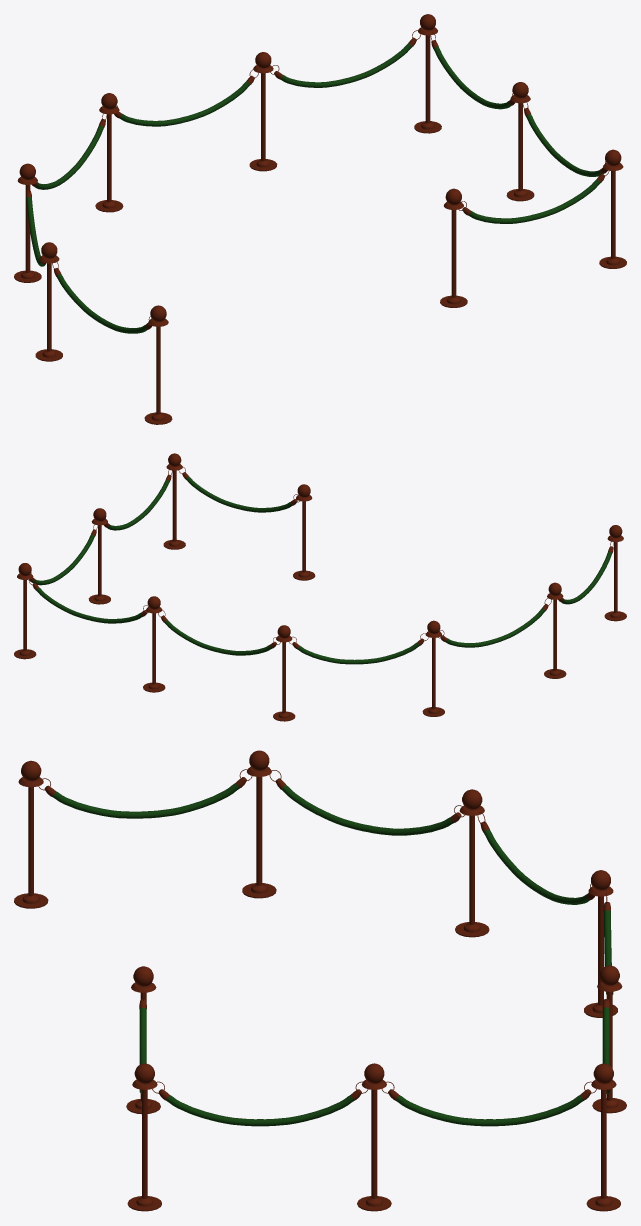
Rendered from suport-franghie-separare-oameni.fbx.
The picture shows the model from 3 angles, top to bottom: view 1: azimuth 30°, elevation 25°; view 2: azimuth 150°, elevation 25°; view 3: azimuth 270°, elevation 25°; orthographic projection. The views are drawn at different scales.
Parts seen in each view (by area): view 1: Cylinder.076, Cylinder.086, Cylinder.085, Cylinder.070, Cylinder.075, Cylinder.078, Cylinder.084, Cylinder.071, Cylinder.077, Cylinder.082, Cylinder.073, Cylinder.080 (+4 smaller); view 2: Cylinder.083, Cylinder.076, Cylinder.085, Cylinder.086, Cylinder.081, Cylinder.073, Cylinder.075, Cylinder.071, Cylinder.082, Cylinder.084, Cylinder.078, Cylinder.077 (+5 smaller); view 3: Cylinder.072, Cylinder.074, Cylinder.079, Cylinder.081, Cylinder.077, Cylinder.071, Cylinder.078, Cylinder.070, Cylinder.073, Cylinder.080, Cylinder.083, Cylinder.082 (+1 smaller).
Boxes of the visible parts, x1,y1,x2,y2 form: Cylinder.076: [462, 173, 605, 223]; Cylinder.086: [274, 37, 416, 87]; Cylinder.085: [114, 75, 254, 126]; Cylinder.070: [414, 27, 441, 133]; Cylinder.075: [440, 202, 467, 307]; Cylinder.078: [144, 318, 172, 424]; Cylinder.084: [249, 65, 277, 171]; Cylinder.071: [506, 95, 534, 201]; Cylinder.077: [35, 255, 62, 361]; Cylinder.082: [95, 106, 123, 212]; Cylinder.073: [599, 163, 626, 268]; Cylinder.080: [14, 176, 41, 282]; Cylinder.083: [292, 638, 424, 664]; Cylinder.076: [182, 472, 297, 512]; Cylinder.085: [161, 615, 276, 655]; Cylinder.086: [32, 583, 147, 623]; Cylinder.081: [440, 604, 548, 647]; Cylinder.073: [163, 464, 185, 549]; Cylinder.075: [293, 495, 315, 580]; Cylinder.071: [88, 518, 110, 604]; Cylinder.082: [273, 635, 295, 721]; Cylinder.084: [143, 606, 165, 692]; Cylinder.078: [604, 535, 626, 621]; Cylinder.077: [544, 593, 566, 678]; Cylinder.072: [388, 1089, 591, 1126]; Cylinder.074: [158, 1089, 361, 1126]; Cylinder.079: [44, 777, 246, 818]; Cylinder.081: [275, 778, 461, 835]; Cylinder.077: [242, 766, 276, 898]; Cylinder.071: [357, 1080, 391, 1211]; Cylinder.078: [14, 777, 48, 908]; Cylinder.070: [586, 1079, 620, 1211]; Cylinder.073: [127, 1079, 161, 1211]; Cylinder.080: [455, 805, 489, 937]; Cylinder.083: [480, 821, 594, 904]; Cylinder.082: [584, 886, 617, 1017].
Size of the model in its own units: 667 by 133 by 527.
